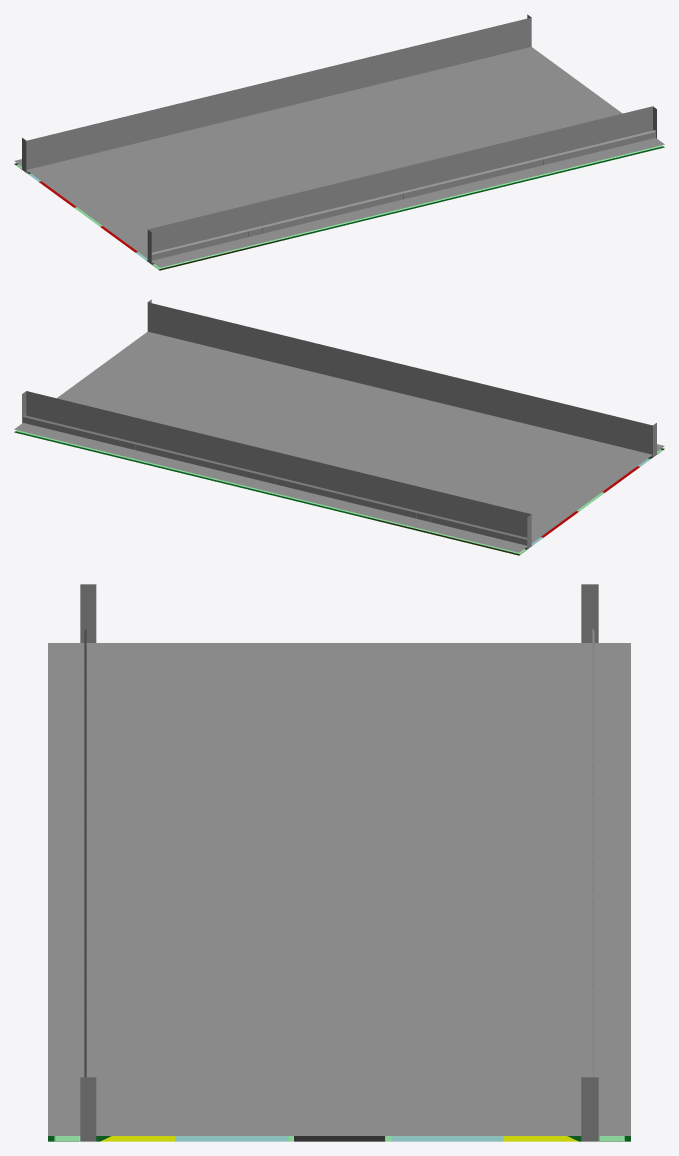
Rendered from RT CHIC V01 T01.FBX.
3 renders of one model, top to bottom at view 1: azimuth 30°, elevation 25°; view 2: azimuth 150°, elevation 25°; view 3: azimuth 270°, elevation 25°, orthographic. The views are drawn at different scales.
Visible parts, largest first — view 1: RT CHIC V01 T01 SNAP, RT CHIC V01 COLL II, RT CHIC V01 COLL I, RT CHIC V01 Fence Shared II, RT CHIC V01 SR II, RT CHIC V01 T01 NAV Grass.Conc, RT CHIC V01 T01 HI; view 2: RT CHIC V01 T01 SNAP, RT CHIC V01 COLL I, RT CHIC V01 COLL II, RT CHIC V01 Fence Shared I, RT CHIC V01 SR I, RT CHIC V01 T01 NAV Grass, RT CHIC V01 T01 HI; view 3: RT CHIC V01 T01 SNAP, RT CHIC V01 RubW I, RT CHIC V01 RubW II, RT CHIC V01 COLL II, RT CHIC V01 COLL I, RT CHIC V01 T01 HI, RT CHIC V01 Fence Shared I, RT CHIC V01 Fence Shared II, RT CHIC V01 T01 NAV Gravel C01-C02.
Part boxes in pixels (bbox=[...]): RT CHIC V01 T01 SNAP: bbox=[14, 47, 664, 267]; RT CHIC V01 COLL II: bbox=[22, 14, 531, 172]; RT CHIC V01 COLL I: bbox=[147, 106, 656, 264]; RT CHIC V01 Fence Shared II: bbox=[151, 130, 655, 263]; RT CHIC V01 SR II: bbox=[152, 145, 662, 269]; RT CHIC V01 T01 NAV Grass.Conc: bbox=[249, 146, 664, 247]; RT CHIC V01 T01 HI: bbox=[14, 163, 319, 270]; RT CHIC V01 T01 SNAP: bbox=[14, 331, 664, 552]; RT CHIC V01 COLL I: bbox=[147, 299, 656, 457]; RT CHIC V01 COLL II: bbox=[22, 391, 531, 549]; RT CHIC V01 Fence Shared I: bbox=[23, 415, 527, 548]; RT CHIC V01 SR I: bbox=[16, 430, 526, 554]; RT CHIC V01 T01 NAV Grass: bbox=[14, 431, 388, 522]; RT CHIC V01 T01 HI: bbox=[352, 448, 664, 555]; RT CHIC V01 T01 SNAP: bbox=[48, 643, 630, 1135]; RT CHIC V01 RubW I: bbox=[585, 643, 592, 1077]; RT CHIC V01 RubW II: bbox=[86, 643, 93, 1077]; RT CHIC V01 COLL II: bbox=[581, 584, 598, 1141]; RT CHIC V01 COLL I: bbox=[80, 584, 96, 1141]; RT CHIC V01 T01 HI: bbox=[175, 1136, 503, 1141]; RT CHIC V01 Fence Shared I: bbox=[592, 629, 594, 1077]; RT CHIC V01 Fence Shared II: bbox=[84, 629, 86, 1077]; RT CHIC V01 T01 NAV Gravel C01-C02: bbox=[100, 1136, 578, 1141].
Bounding box in the file's own units: 180 × 11 × 90.
